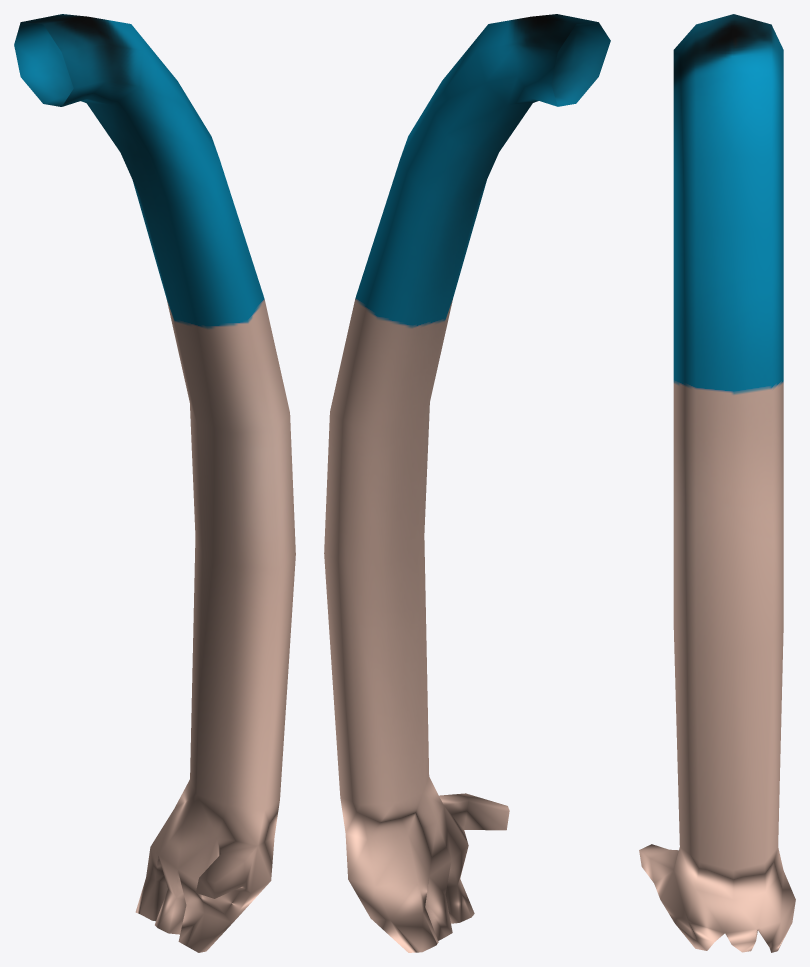
File: BrazoIzquierdo.obj
3 views of the same model, side by side, from view 1: azimuth 30°, elevation 25°; view 2: azimuth 150°, elevation 25°; view 3: azimuth 270°, elevation 25° (orthographic). The views are drawn at different scales.
Visible parts, largest first — view 1: Finn; view 2: Finn; view 3: Finn.
Part boxes in pixels (x1,y1,x2,y2): Finn: [14, 14, 295, 952]; Finn: [324, 14, 610, 952]; Finn: [639, 14, 795, 952].
Size of the model in its own units: 7.8 by 28.56 by 4.65.
1 material, 1 textured.
